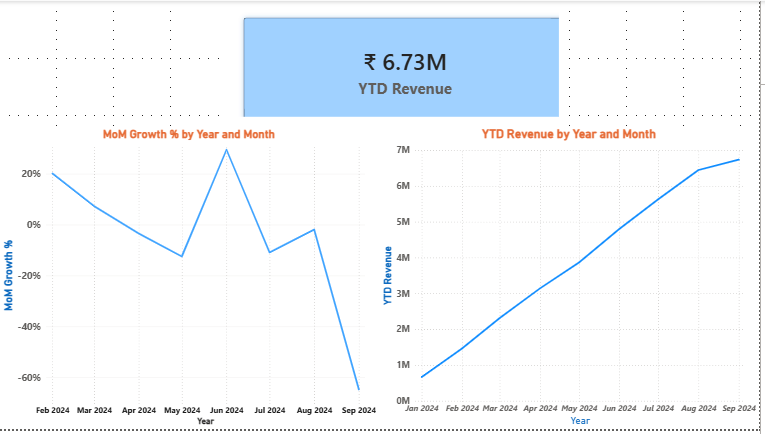

The dashboard page shown, as its layout file describes it:
{"tool":"powerbi","page":{"name":"Time Inteligence","canvas":[1280,720],"ordinal":1},"visuals":[{"type":"lineChart","fields":{"Y":["Measures (2).MoM Growth %"],"Category":["Calender.Date.Variation.Date Hierarchy.Year","Calender.Date.Variation.Date Hierarchy.Month"]},"box":[0,212.7,640,508.2],"z":0},{"type":"lineChart","fields":{"Category":["Calender.Date.Variation.Date Hierarchy.Year","Calender.Date.Variation.Date Hierarchy.Month"],"Y":["Measures (2).YTD Revenue"]},"box":[640,212.7,640,508.2],"z":1000},{"type":"cardVisual","fields":{"Data":["Measures (2).YTD Revenue"]},"box":[384,0,576,212.7],"z":2000}]}

Visuals, with their boxes in screenshot pixels (x1, y1, x2, y2), scaled from the page's 1280x720 canvas onto the 765x434 screenshot:
lineChart - Measures (2).MoM Growth % x Calender.Date.Variation.Date Hierarchy.Year: [left=0, top=128, right=382, bottom=433]
lineChart - Calender.Date.Variation.Date Hierarchy.Year x Calender.Date.Variation.Date Hierarchy.Month: [left=382, top=128, right=764, bottom=433]
cardVisual - Measures (2).YTD Revenue: [left=230, top=0, right=574, bottom=128]
